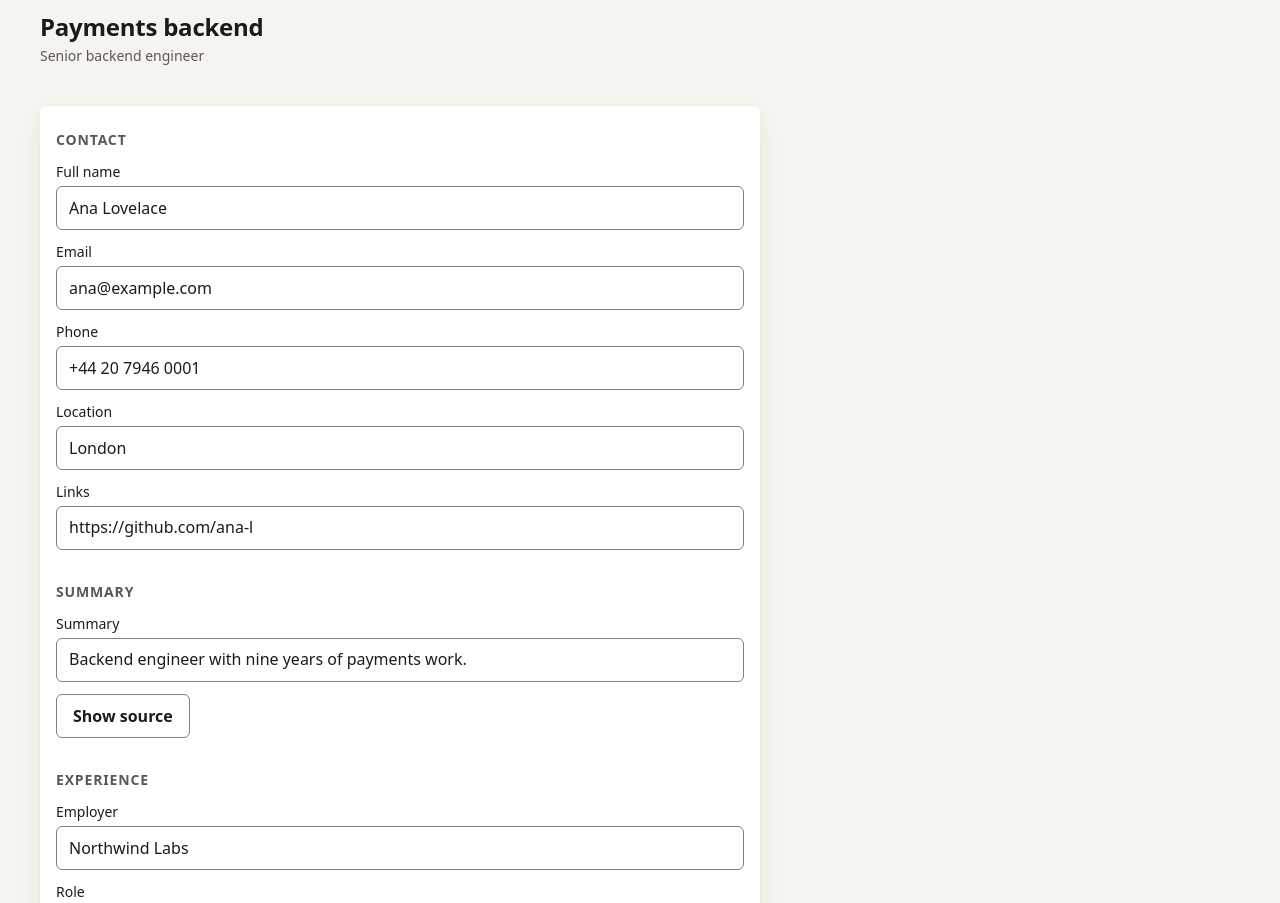
it: CV editor — 409 VERSION_CONFLICT (C-008, design: conflict_409) › Reload latest fetches the CV again and shows the other device's value in place of the typed one
Step 1. Replace the text in the field labelled "Email" with "my-typed@example.com" → (400, 288), box [56, 266, 744, 310]
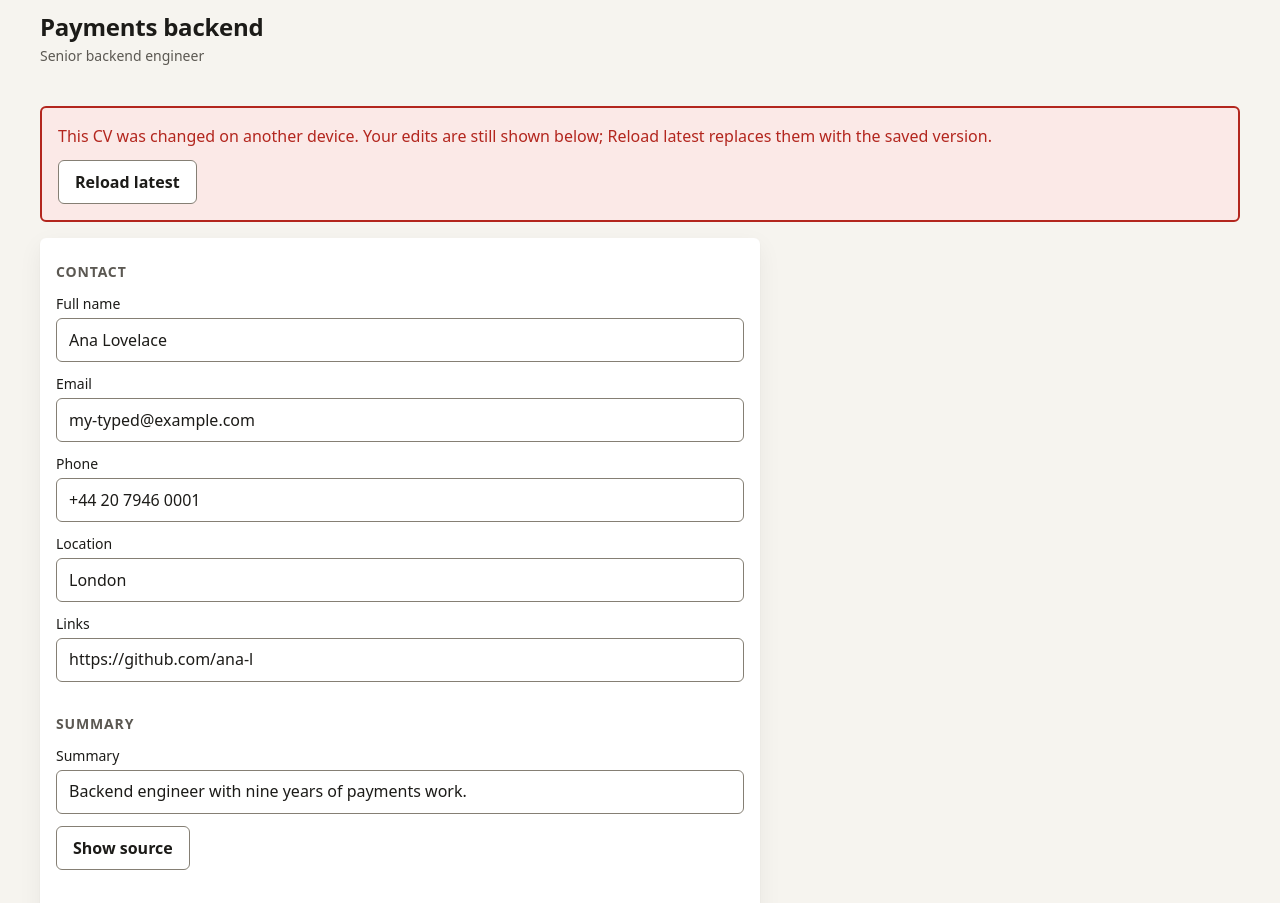
Step 2. Click the button "Reload latest" → click(127, 182), box [58, 160, 197, 204]
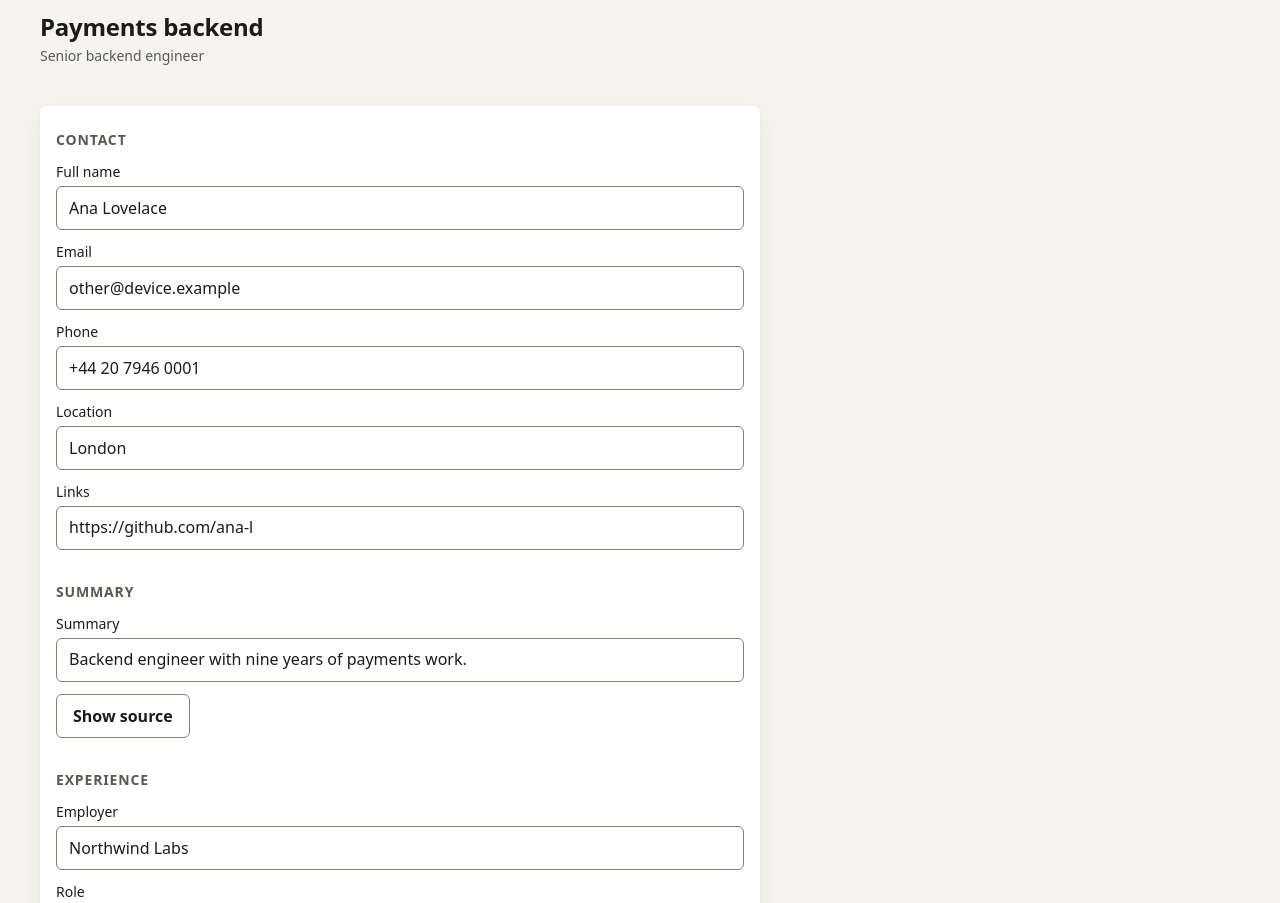
Expected: the field showing "my-typed@example.com" is not shown
Now the field showing "other@device.example" is shown, box [56, 266, 744, 310]
